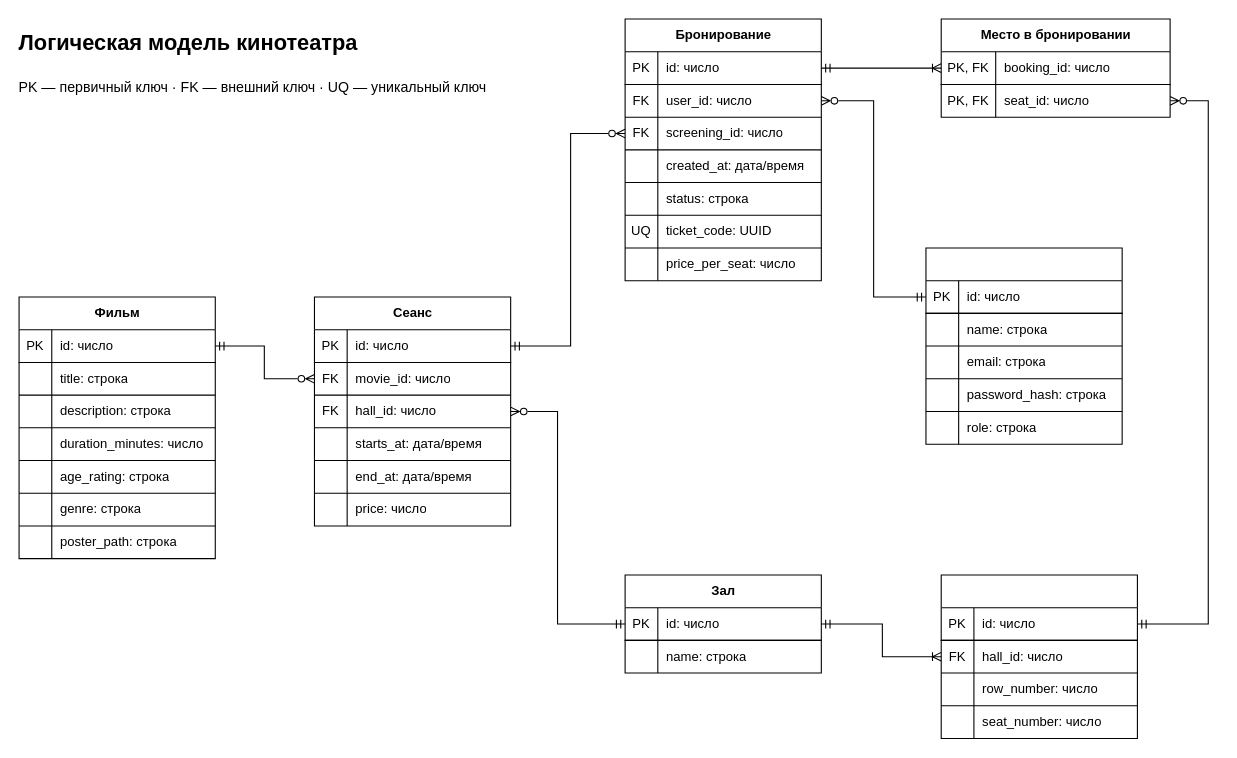
Some shapes in this 1237 by 758 pixel diagram are drawn without their labels. Each missing label, with the box of its shape:
Место: (940, 574, 1137, 738)
Пользователь: (925, 247, 1122, 444)
